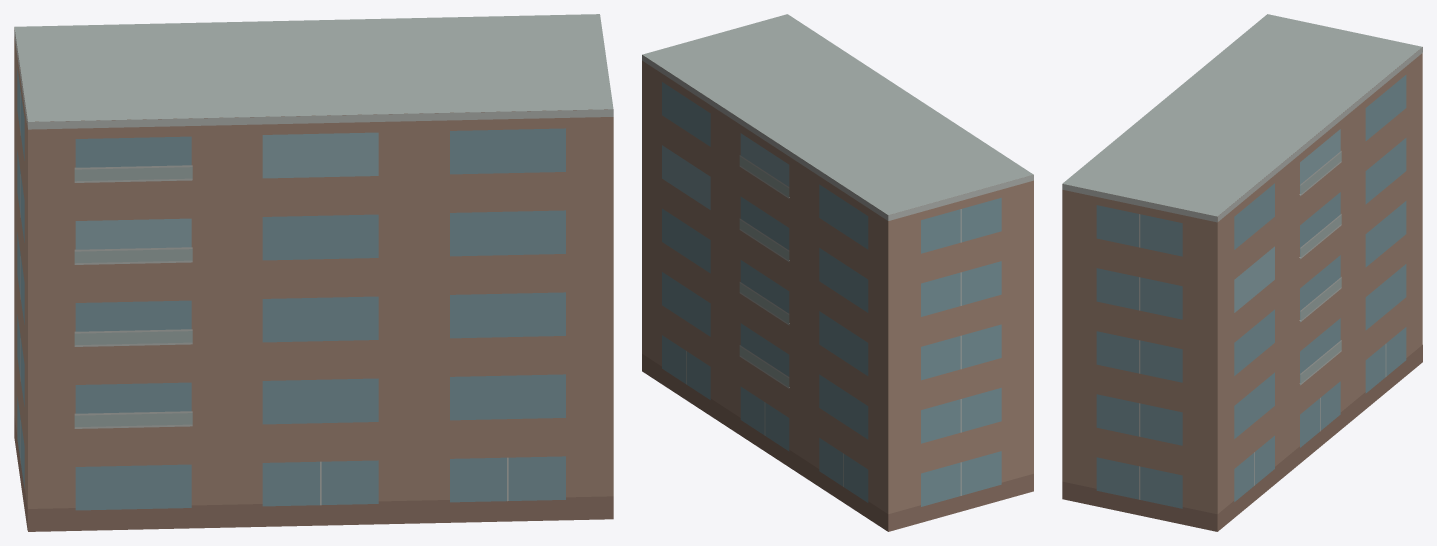
Rendered from survey-upis-32893426.glb.
The picture shows the model from 3 angles, left to right: view 1: azimuth 30°, elevation 25°; view 2: azimuth 150°, elevation 25°; view 3: azimuth 270°, elevation 25°; orthographic projection. The views are drawn at different scales.
Visible parts, largest first — view 1: survey-upis-32893426.tmp; view 2: survey-upis-32893426.tmp; view 3: survey-upis-32893426.tmp.
Boxes of the visible parts, x1,y1,x2,y2 form: survey-upis-32893426.tmp: (14,14,613,531); survey-upis-32893426.tmp: (642,14,1033,531); survey-upis-32893426.tmp: (1062,14,1422,531).
Size of the model in its own units: 18.06 by 13.1 by 13.58.
